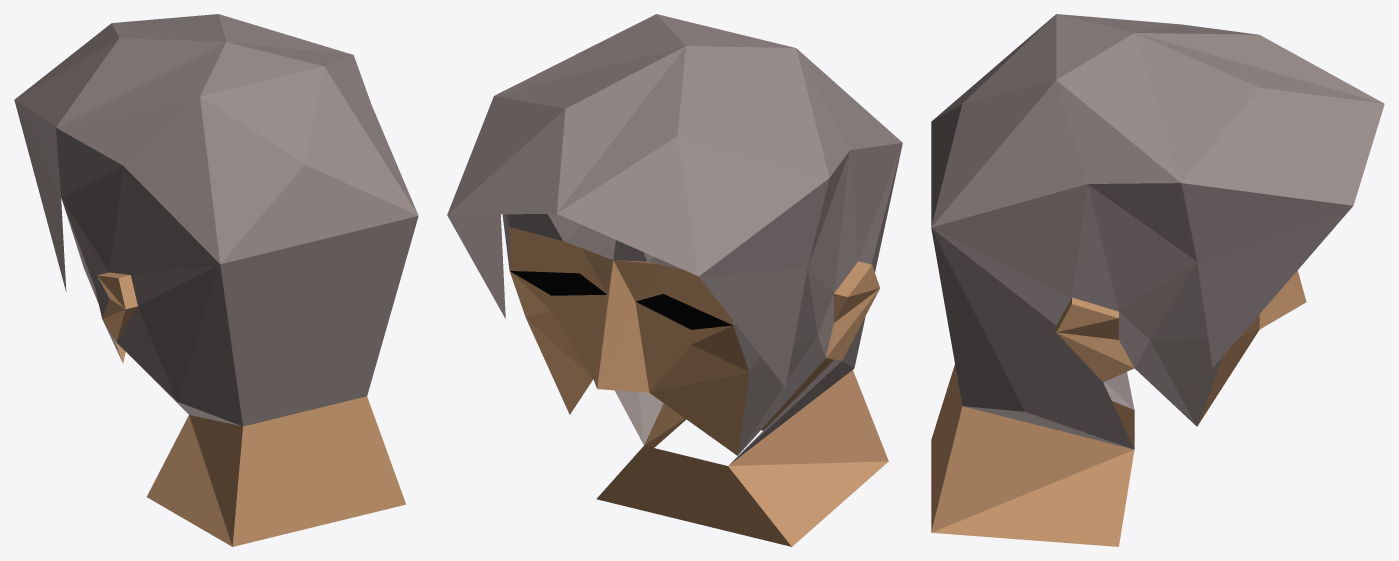
The model's file is npc_world_watchman_7_0.obj.
3 renders of one model, left to right at view 1: azimuth 30°, elevation 25°; view 2: azimuth 150°, elevation 25°; view 3: azimuth 270°, elevation 25°, orthographic. The views are drawn at different scales.
Bounding box in the file's own units: 0.1875 × 0.2578 × 0.2266.
